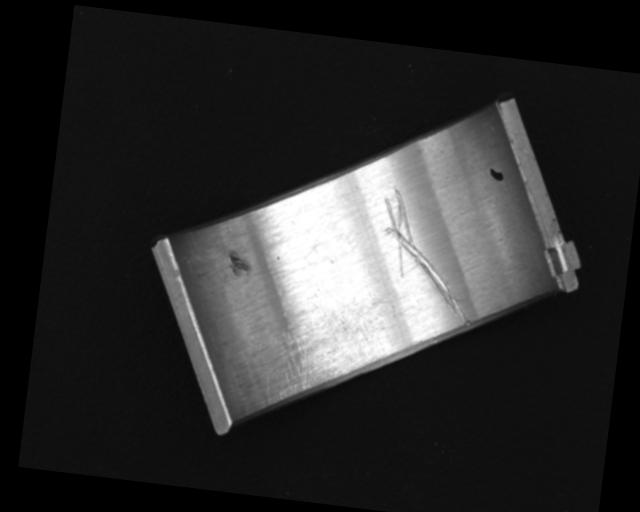blot: (487, 166, 506, 182)
bruise: (224, 250, 251, 277)
nick: (367, 183, 485, 324)
scratch: (261, 305, 376, 412)
